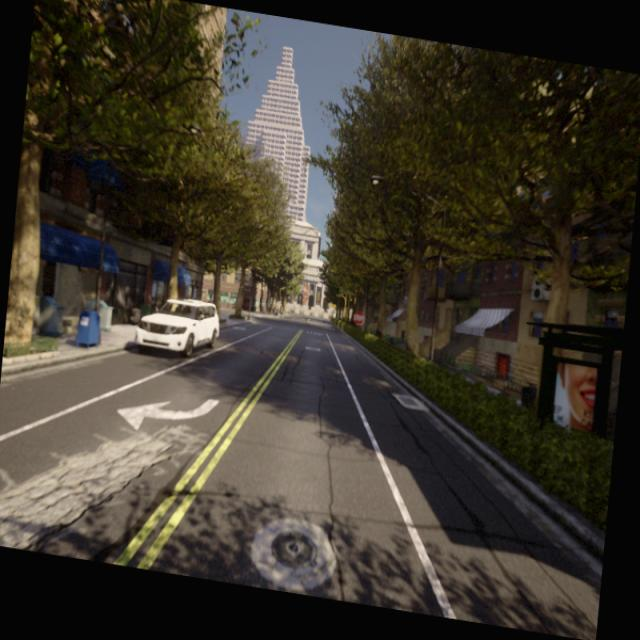stop sign: (350, 307, 366, 328)
